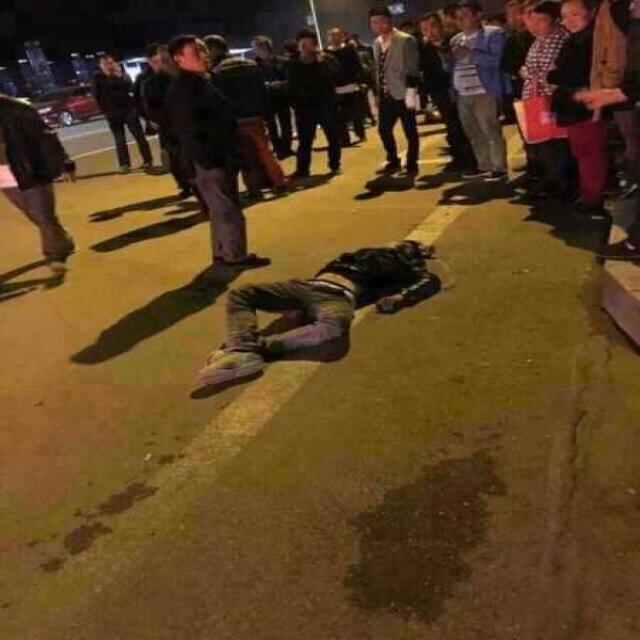10-: (0, 0, 639, 401)
down: (175, 220, 465, 405)
